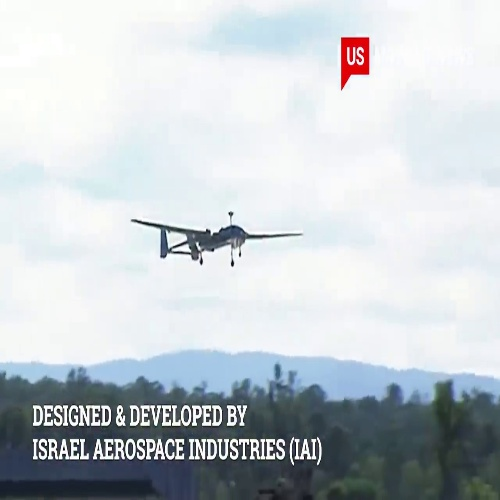uav16: (130, 211, 302, 266)
